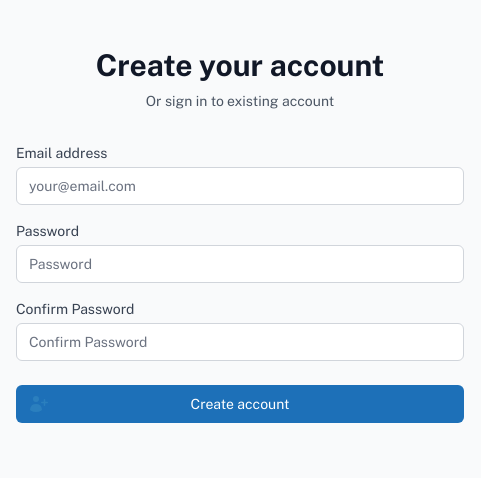
Test case: Register › shows the error when registration fails
This screenshot has width=481, height=478.
Type "a@b.com" into the field labelled "Email address".
click(240, 186); type("a@b.com")  # box [16,167,464,205]
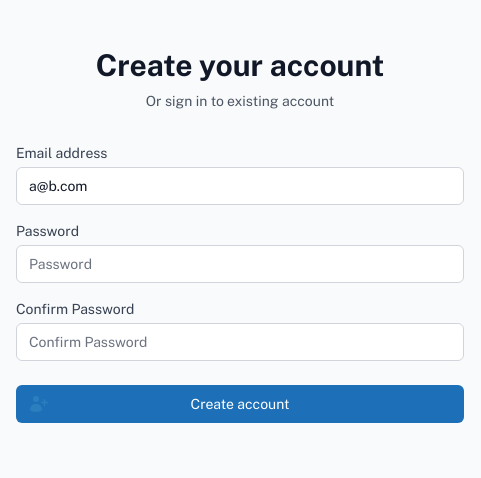
Type "Password1" into the password field labelled "Password".
click(240, 264); type("Password1")  # box [16,245,464,283]
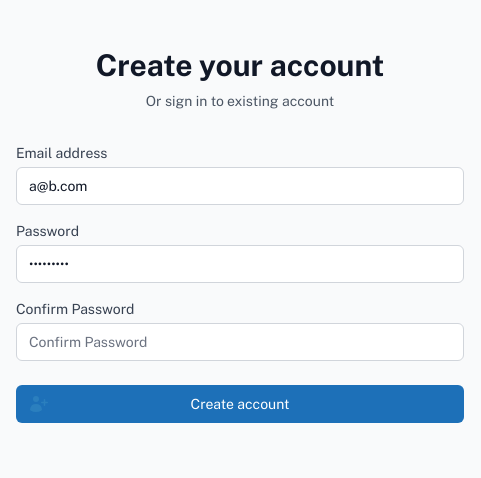
Type "Password1" into the password field labelled "Confirm Password".
click(240, 342); type("Password1")  # box [16,323,464,361]
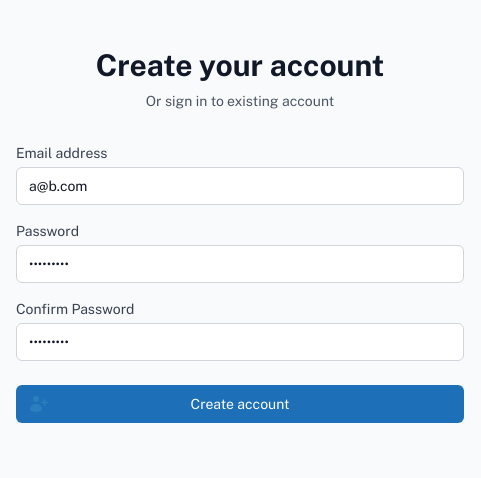
Click the button "Create account".
click(240, 404)  # box [16,385,464,423]
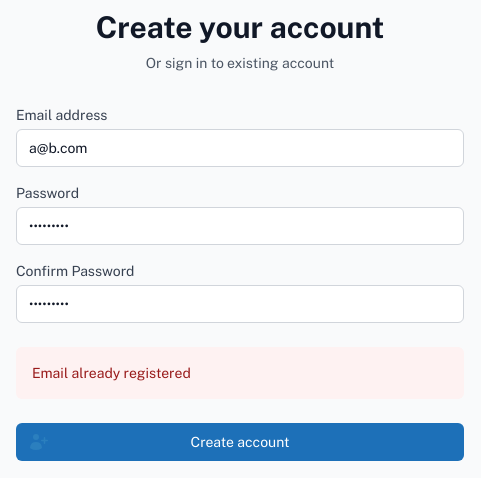
Now the text "Email already registered" is shown, box [32,365,191,381]
